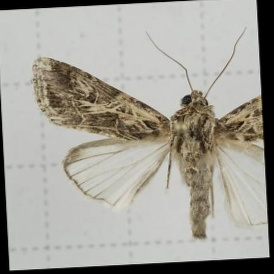Spodoptera litura: (33, 30, 263, 245)
